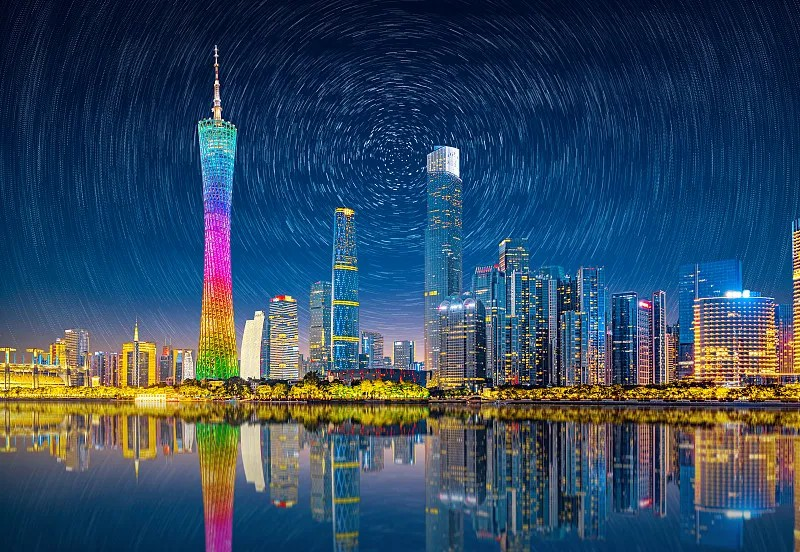Canton: (194, 44, 239, 379)
